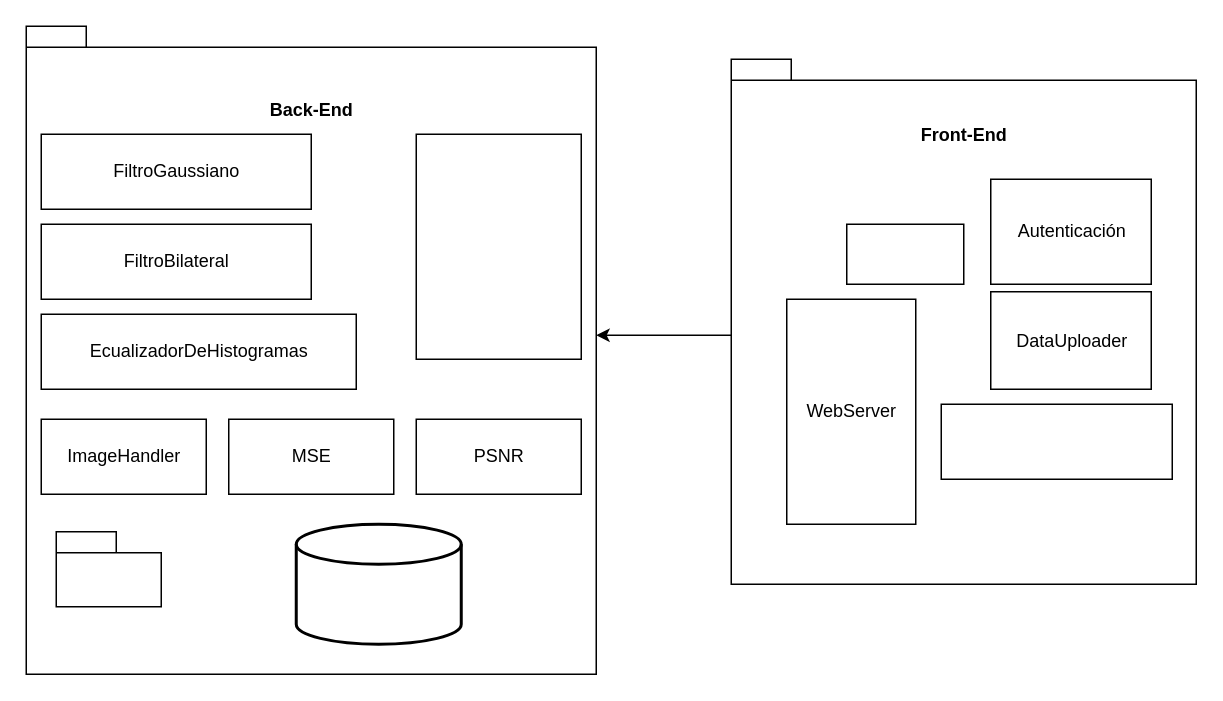
This 1223x701 diagram has some shape labels left out. Here are the shapes that lost their labels. From the top down, the centre of each, then its label:
pixel 498 246: ApplicationServer
pixel 904 253: WebApp
pixel 1056 441: VisualizadorDeResultado
pixel 108 568: Pruebas
pixel 378 583: DatosPersistentes
